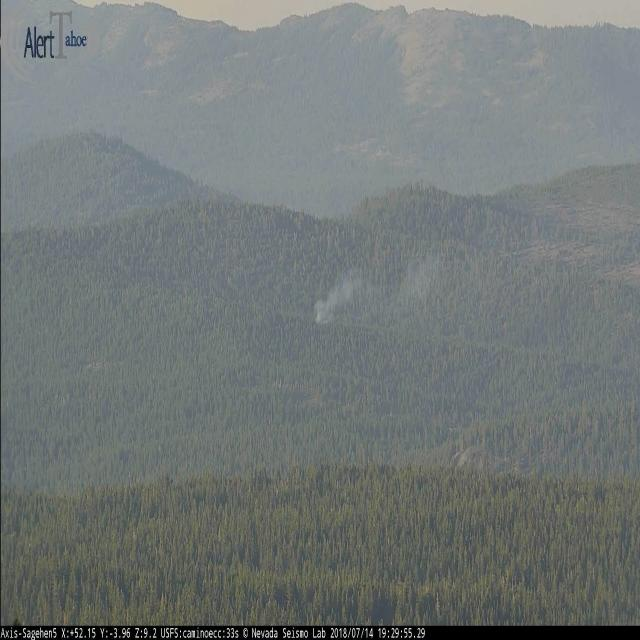smoke: (318, 270, 361, 320)
